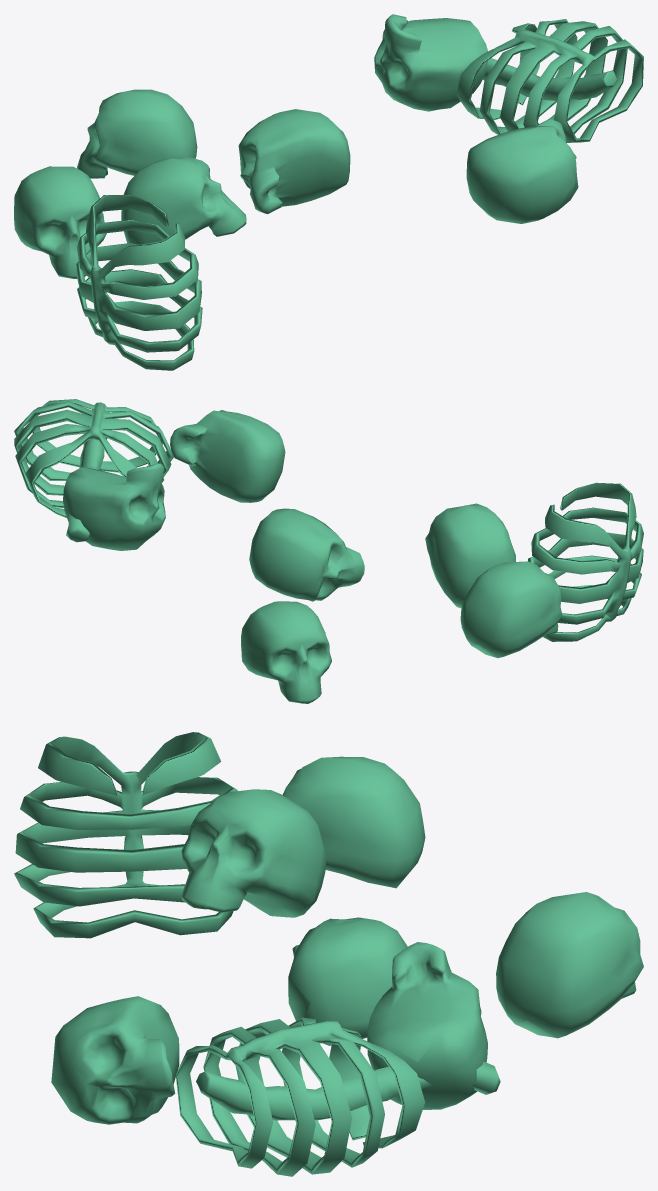
File: Bones_Basket_02A_Lod1.fbx
The picture shows the model from 3 angles, top to bottom: view 1: azimuth 30°, elevation 25°; view 2: azimuth 150°, elevation 25°; view 3: azimuth 270°, elevation 25°; orthographic projection. The views are drawn at different scales.
Visible parts, largest first — view 1: Bones_Basket_02A_Lod1; view 2: Bones_Basket_02A_Lod1; view 3: Bones_Basket_02A_Lod1.
Part boxes in pixels (x1,y1,x2,y2): Bones_Basket_02A_Lod1: (14,14,643,370); Bones_Basket_02A_Lod1: (14,399,643,703); Bones_Basket_02A_Lod1: (14,732,643,1176).
Bounding box in the file's own units: 110 × 28.07 × 73.19.
